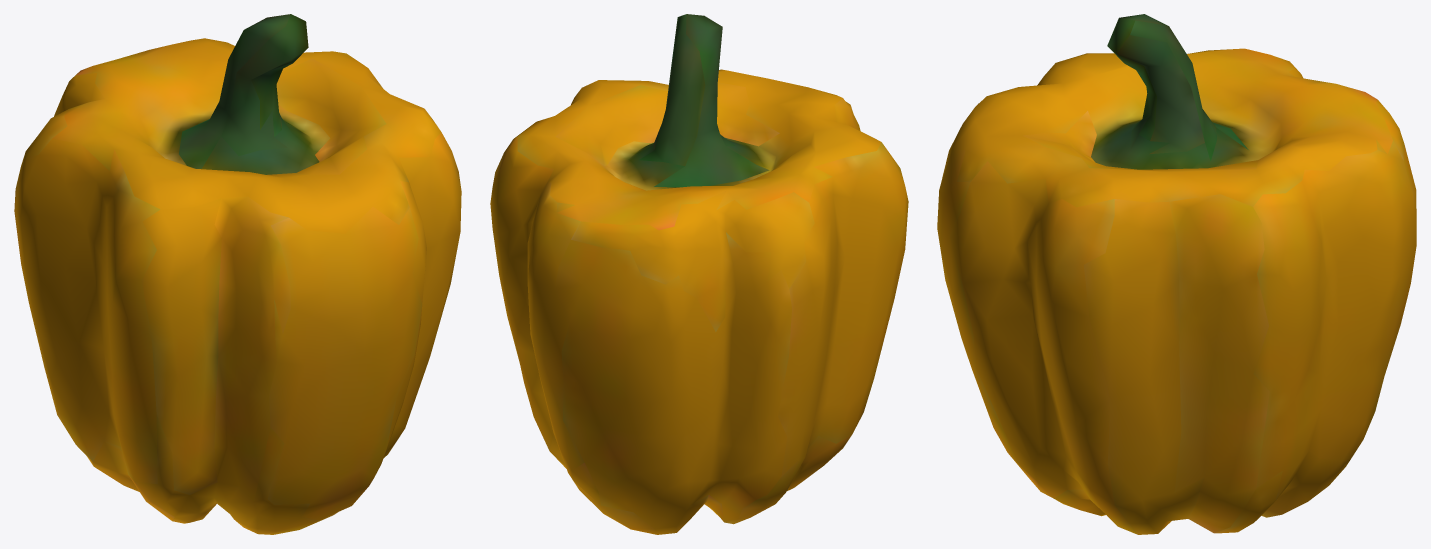
File: pimentaoAmarelo.glb
3 renders of one model, left to right at view 1: azimuth 30°, elevation 25°; view 2: azimuth 150°, elevation 25°; view 3: azimuth 270°, elevation 25°, orthographic. The views are drawn at different scales.
Visible parts, largest first — view 1: pimentaoAmarelo; view 2: pimentaoAmarelo; view 3: pimentaoAmarelo.
Boxes of the visible parts, box(x1,y1,x2,y2) form: pimentaoAmarelo: box(14, 14, 461, 534); pimentaoAmarelo: box(490, 14, 908, 534); pimentaoAmarelo: box(937, 14, 1416, 534).
Size of the model in its own units: 0.116 by 0.1552 by 0.1346.
Materials: 1 (1 with a texture image).
